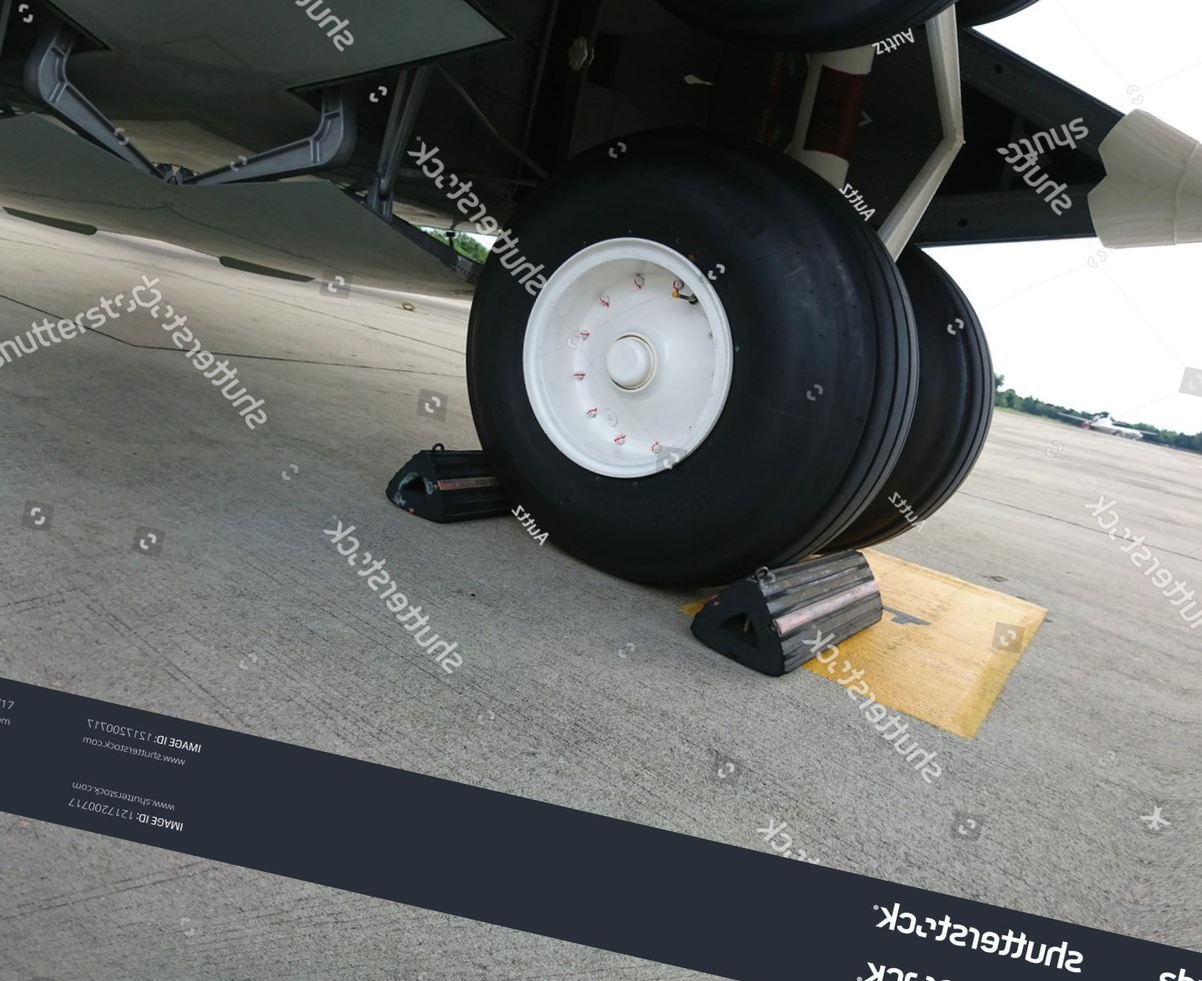chock: (685, 516, 897, 698), (379, 420, 537, 543)
wheel: (441, 94, 946, 631), (812, 236, 1031, 581)
